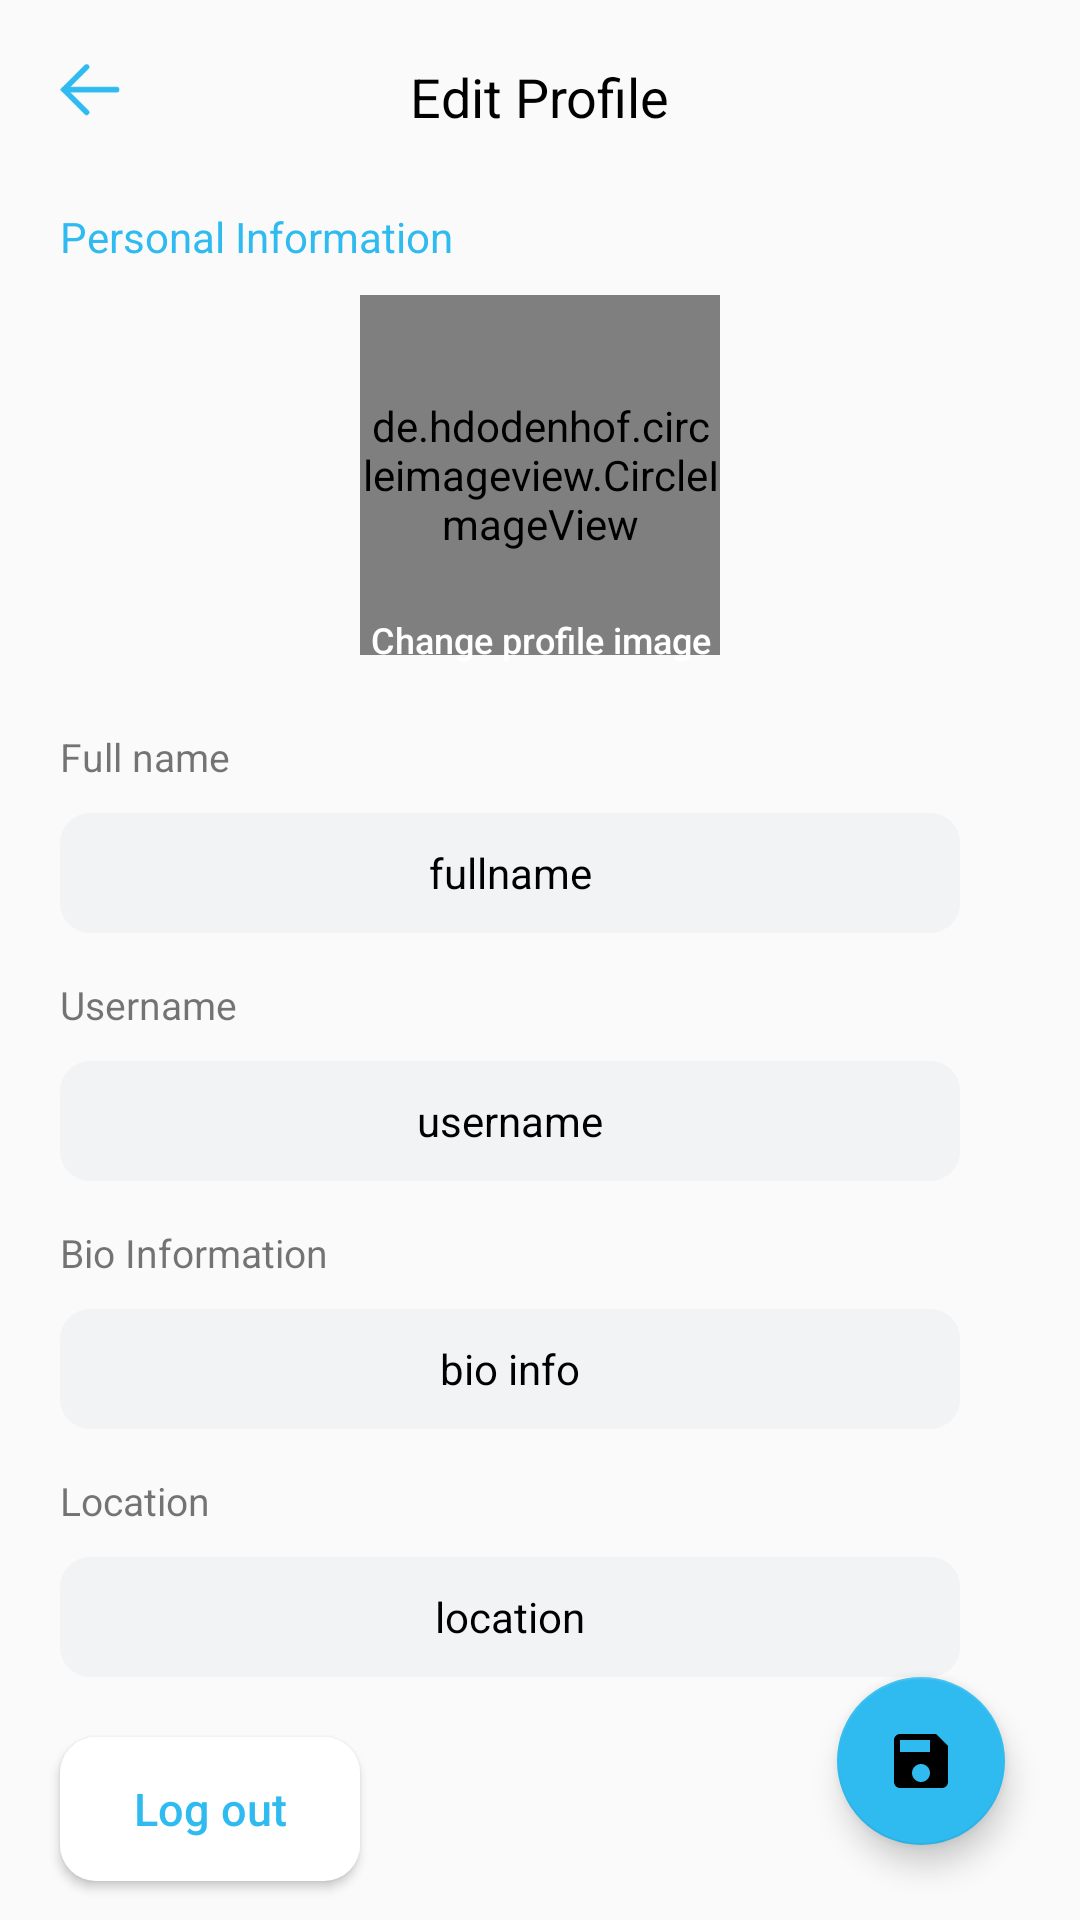

Where to tap for icons on this 1080 × 1920 app screen, as (x,y):
back: (90,90)
save: (921,1761)
